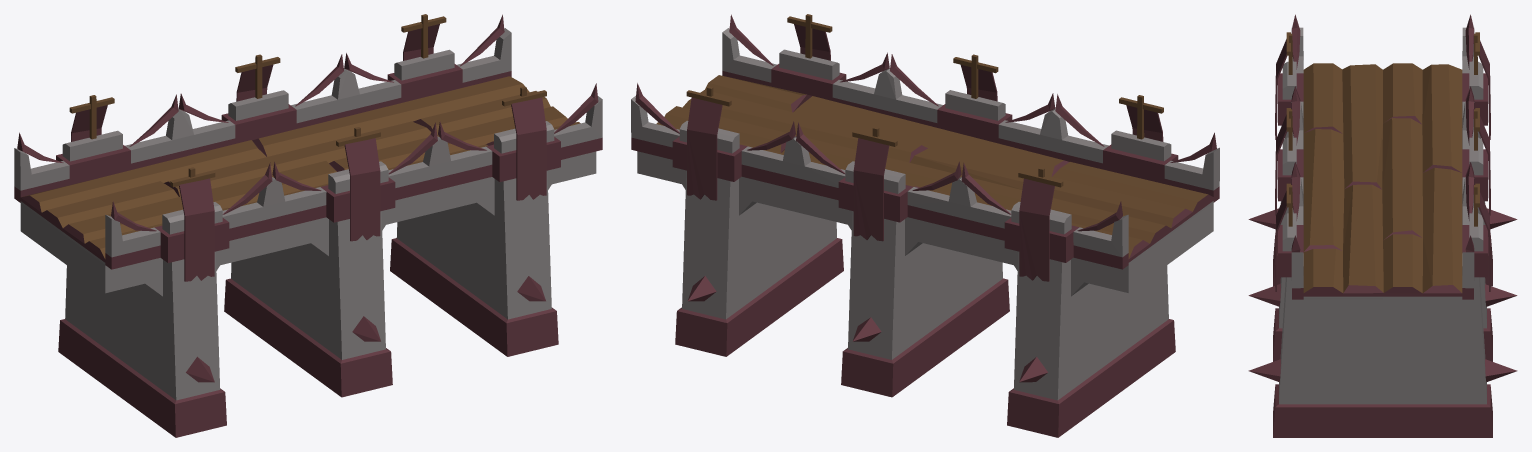
The model's file is SM_Bridge_Tribal_Tier4.fbx.
3 renders of one model, left to right at view 1: azimuth 30°, elevation 25°; view 2: azimuth 150°, elevation 25°; view 3: azimuth 270°, elevation 25°, orthographic. The views are drawn at different scales.
Parts seen in each view (by area): view 1: SM_Bridge_Tribal_Tier4; view 2: SM_Bridge_Tribal_Tier4; view 3: SM_Bridge_Tribal_Tier4.
Boxes of the visible parts, x1,y1,x2,y2 form: SM_Bridge_Tribal_Tier4: [14, 14, 602, 437]; SM_Bridge_Tribal_Tier4: [631, 14, 1219, 437]; SM_Bridge_Tribal_Tier4: [1248, 14, 1517, 437].
Bounding box in the file's own units: 10.04 × 5 × 5.1.
